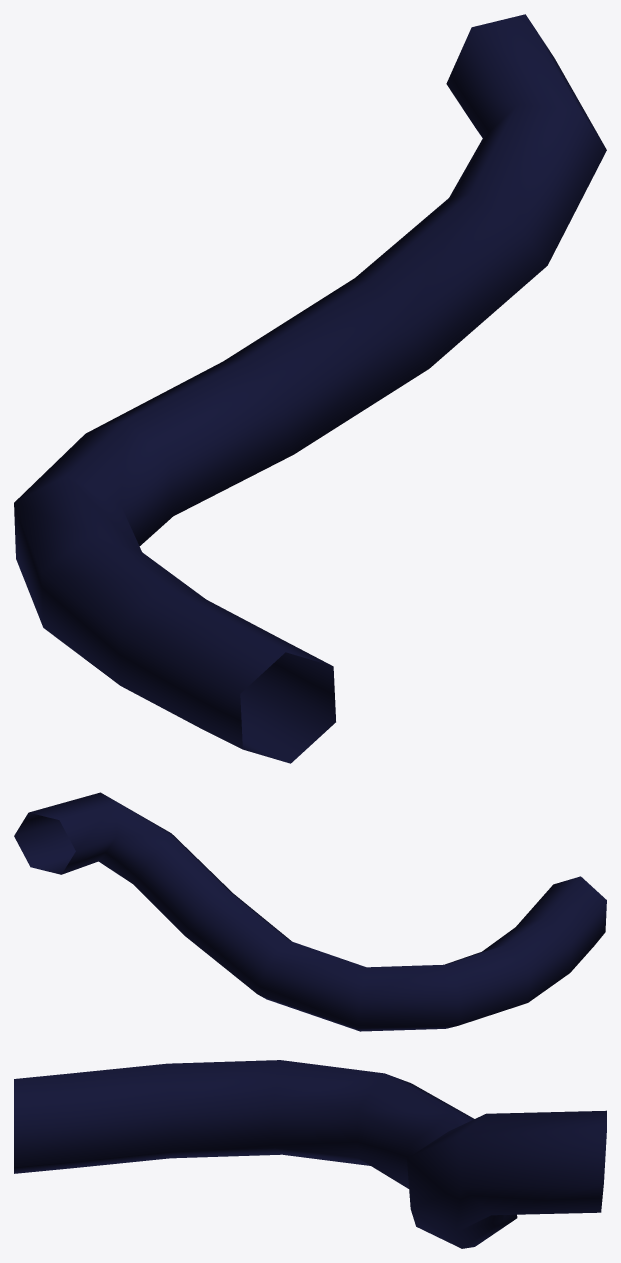
The model's file is Cable_side_L.fbx.
3 views of the same model, one above another, from view 1: azimuth 30°, elevation 25°; view 2: azimuth 150°, elevation 25°; view 3: azimuth 270°, elevation 25° (orthographic). The views are drawn at different scales.
Parts seen in each view (by area): view 1: Cable_Side_L; view 2: Cable_Side_L; view 3: Cable_Side_L.
Part boxes in pixels (x1,y1,x2,y2): Cable_Side_L: (14, 14, 606, 763); Cable_Side_L: (14, 792, 606, 1031); Cable_Side_L: (14, 1060, 606, 1248).
Size of the model in its own units: 0.8495 by 0.3924 by 0.7521.
